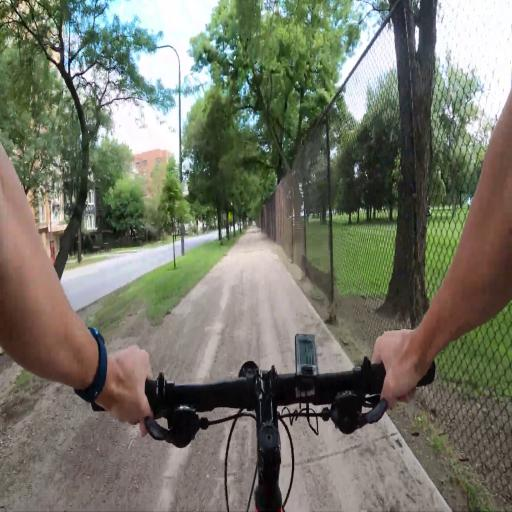Street_Light: (143, 40, 188, 254)
